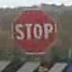stop: (10, 7, 57, 55)
